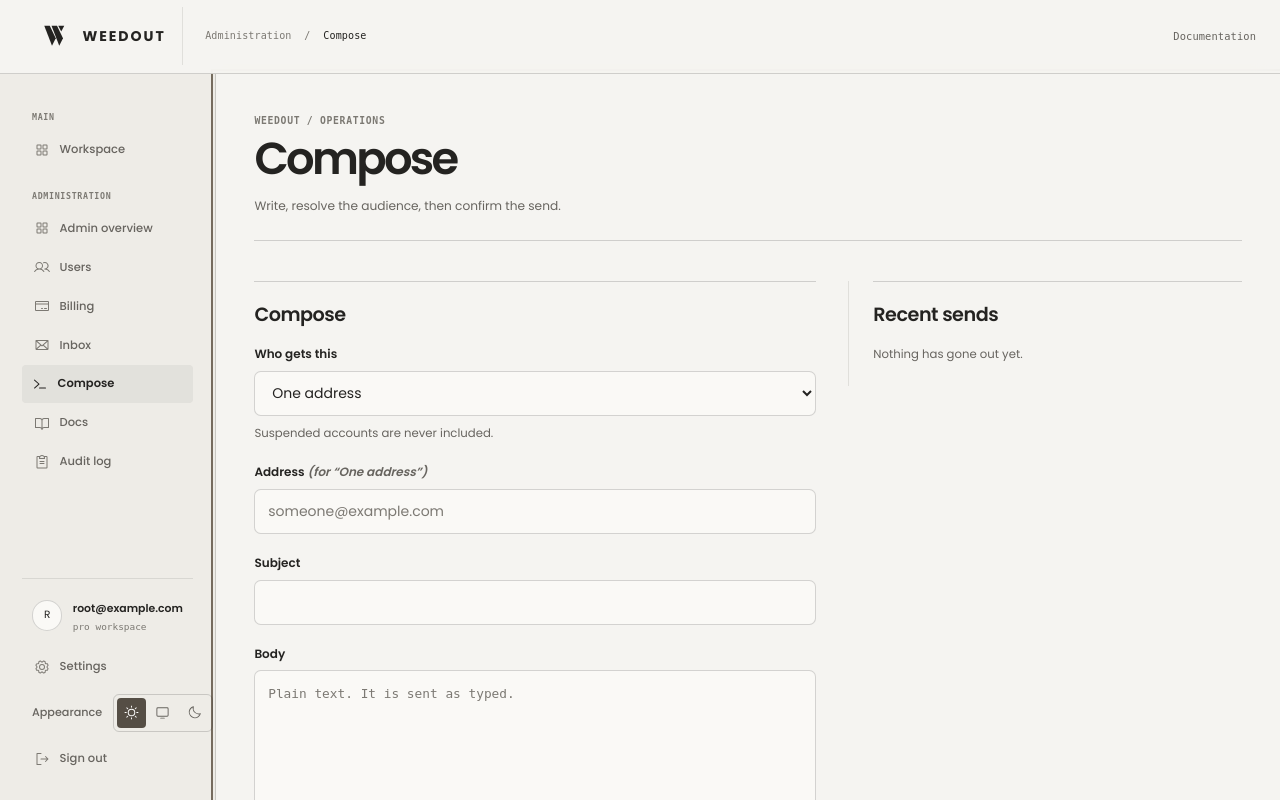
Test case: the campaign send confirmation › drops the confirmation as soon as the message is edited
Expected: the heading "Compose" below "Weedout / Operations" is shown, x1=254 y1=127 x2=456 y2=190
Type "Scheduled maintenance" into the field labelled "Subject" at (535, 602), box x1=254 y1=580 x2=816 y2=625
(page scrolled)
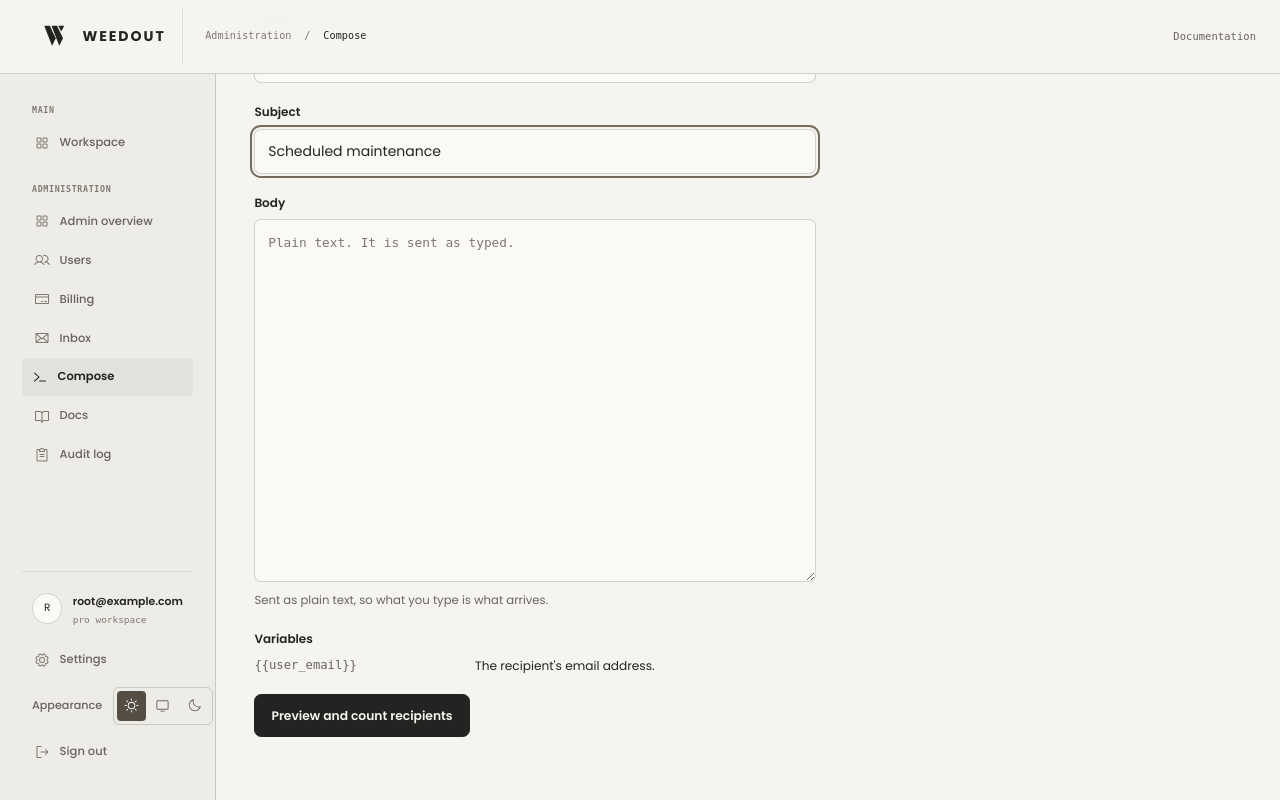
Type "We are moving the database on Friday." into the text box labelled "Body" at (535, 401), box x1=254 y1=219 x2=816 y2=582
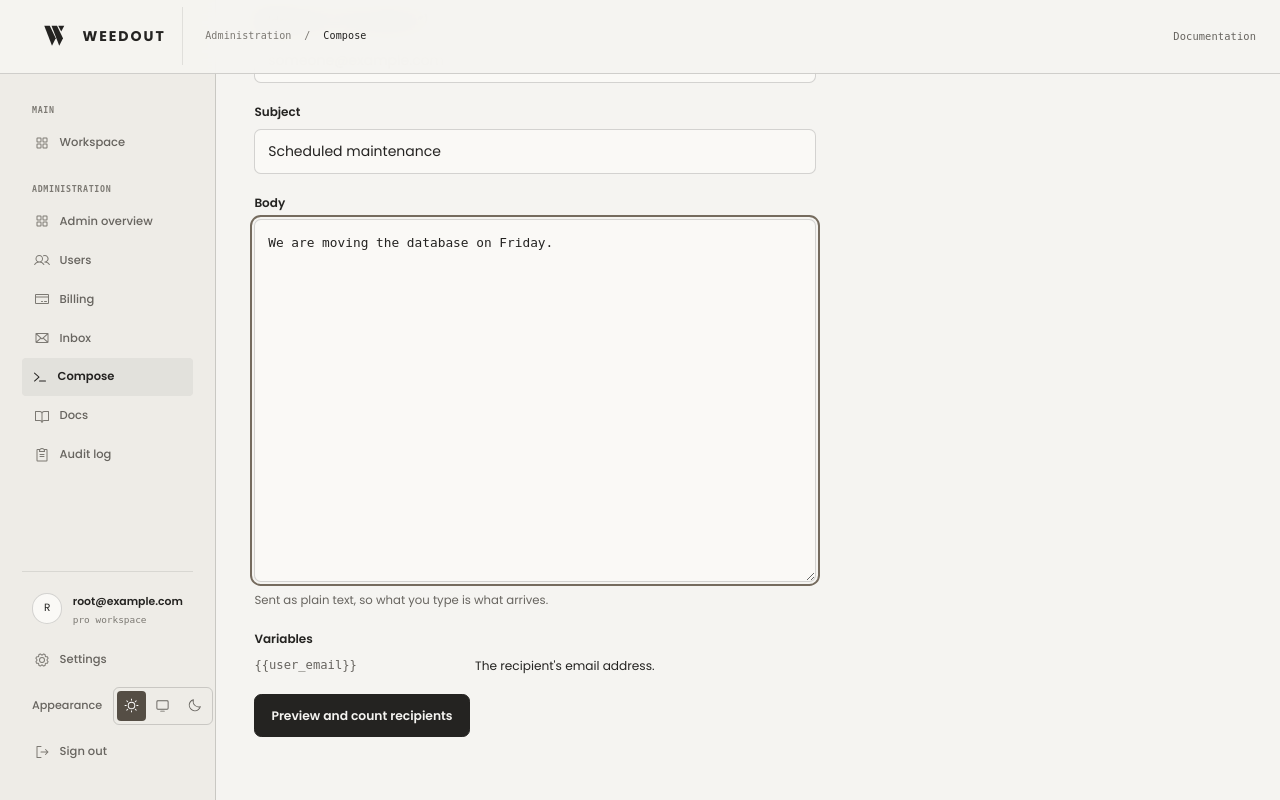
Click the button "Preview and count recipients" at (362, 716), box x1=254 y1=694 x2=470 y2=738
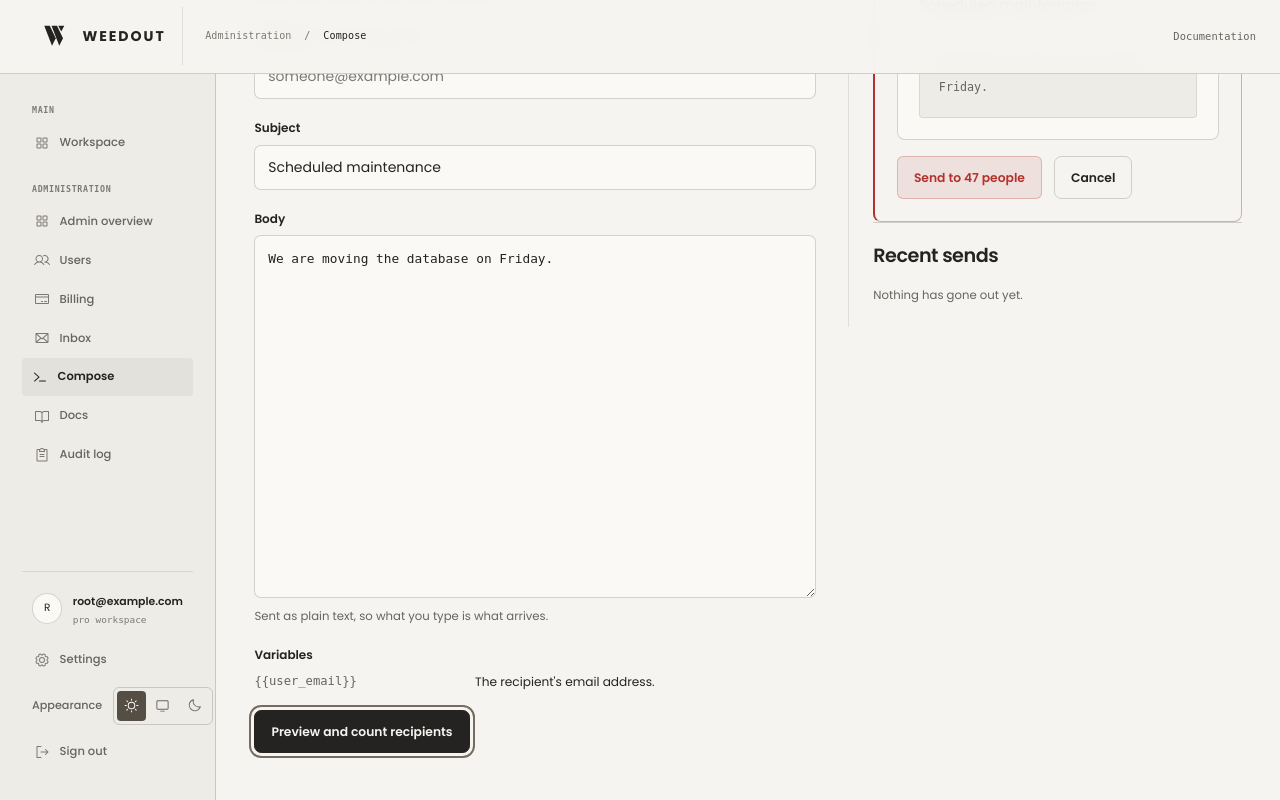
Expected: the button "Send to 47 people" is shown, x1=897 y1=156 x2=1042 y2=199
Type " (revised)" into the field labelled "Subject" at (535, 167), box x1=254 y1=144 x2=816 y2=190
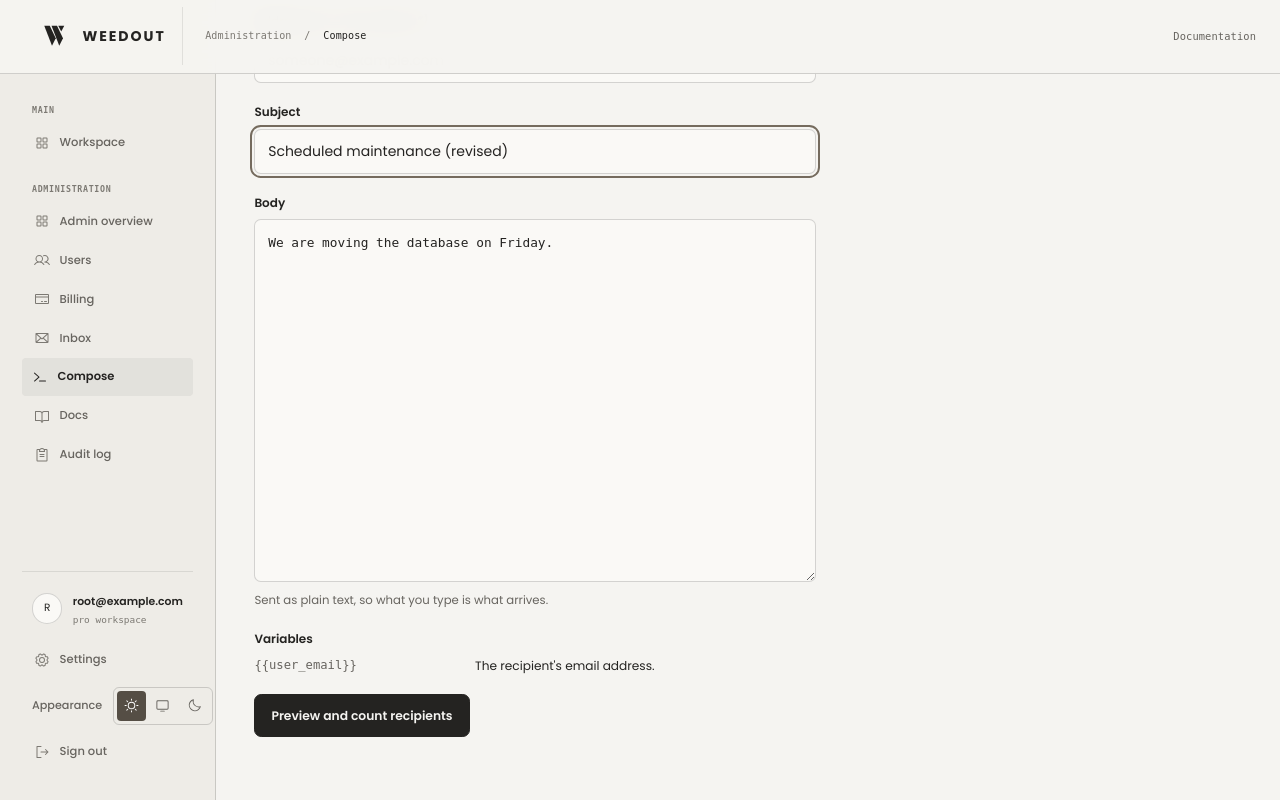
Expected: the button "Send to 47 people" is gone
